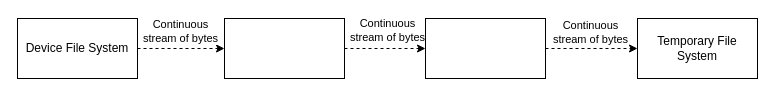
Image size: 775x96. Some labels were removed from this diagram. The box of each missing label's shape, as (x1, y1, x2, y2) in pixels:
Client App: (224, 18, 344, 78)
System: (424, 18, 546, 78)
